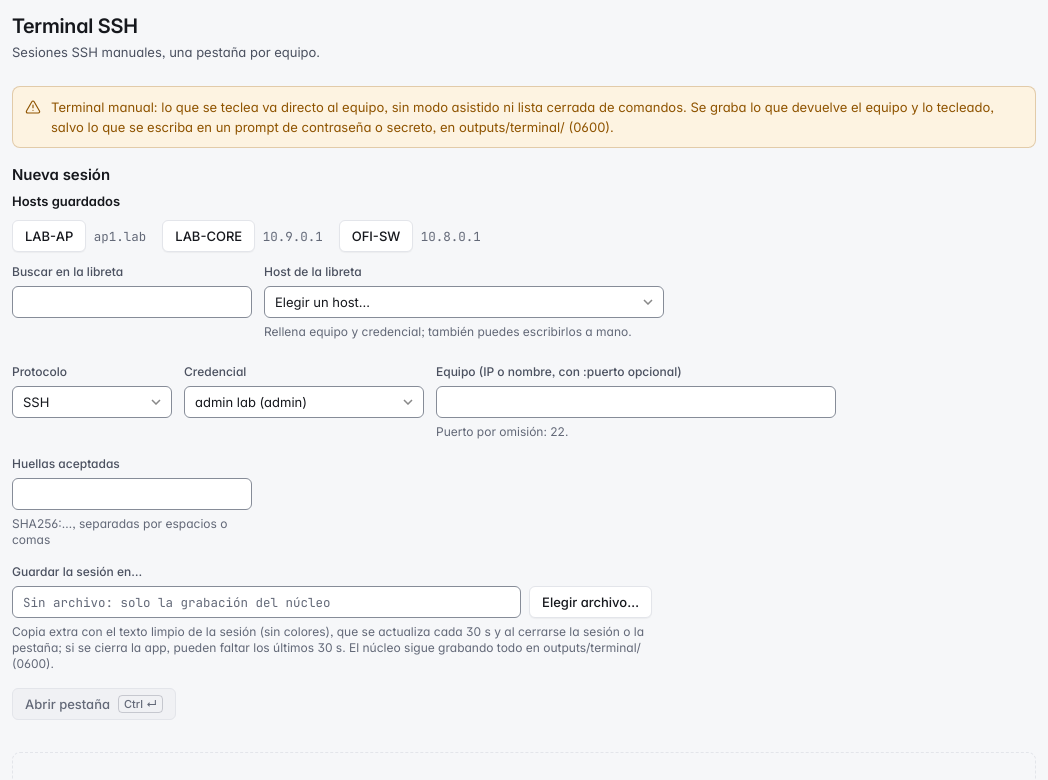
Test case: la huella de la primera vez muestra host:puerto, tipo de llave y la orden ssh-keygen para Linux y Windows
This screenshot has width=1048, height=780.
Click the button with aria-label "Conectar a LAB-CORE": coordinates (209, 236) [162,220,255,252]
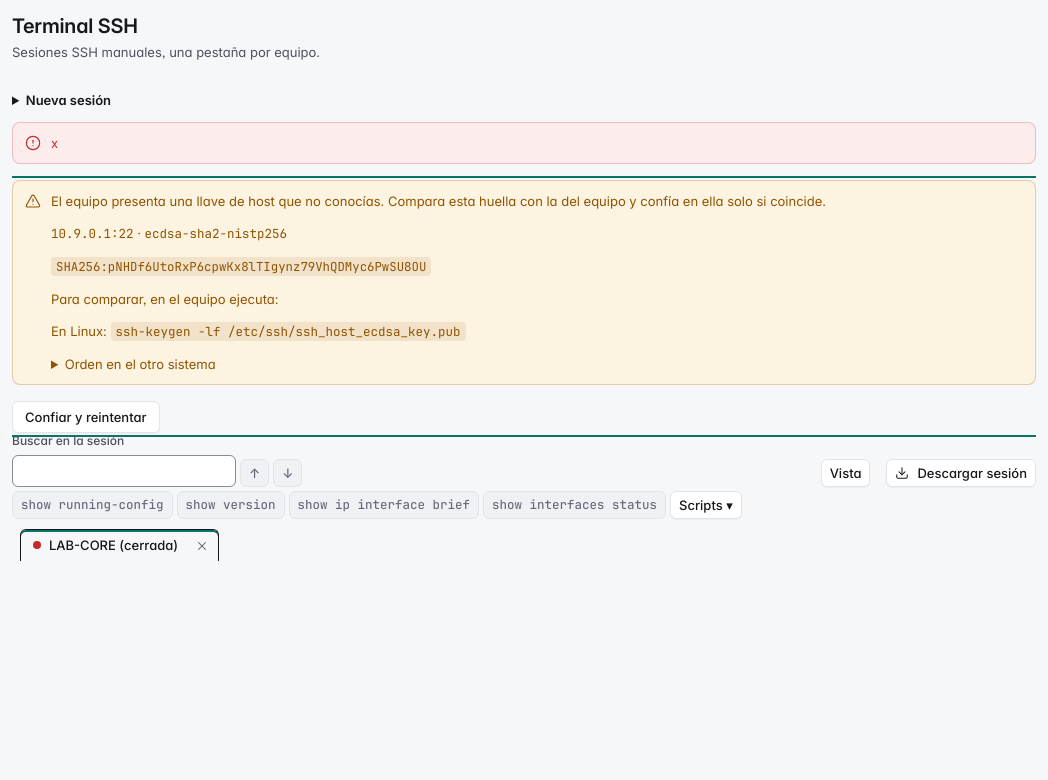
Check: the text "10.9.0.1:22" is shown, box [51,225,134,242]
Check: the text "ecdsa-sha2-nistp256" is shown, box [145,225,287,242]
Check: the text "ssh-keygen -lf /etc/ssh/ssh_host_ecdsa_key.pub" is shown, box [110,322,466,341]
